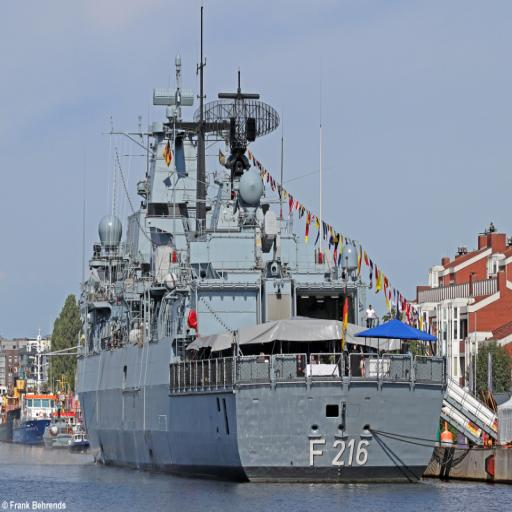Fragata: (75, 2, 449, 482)
